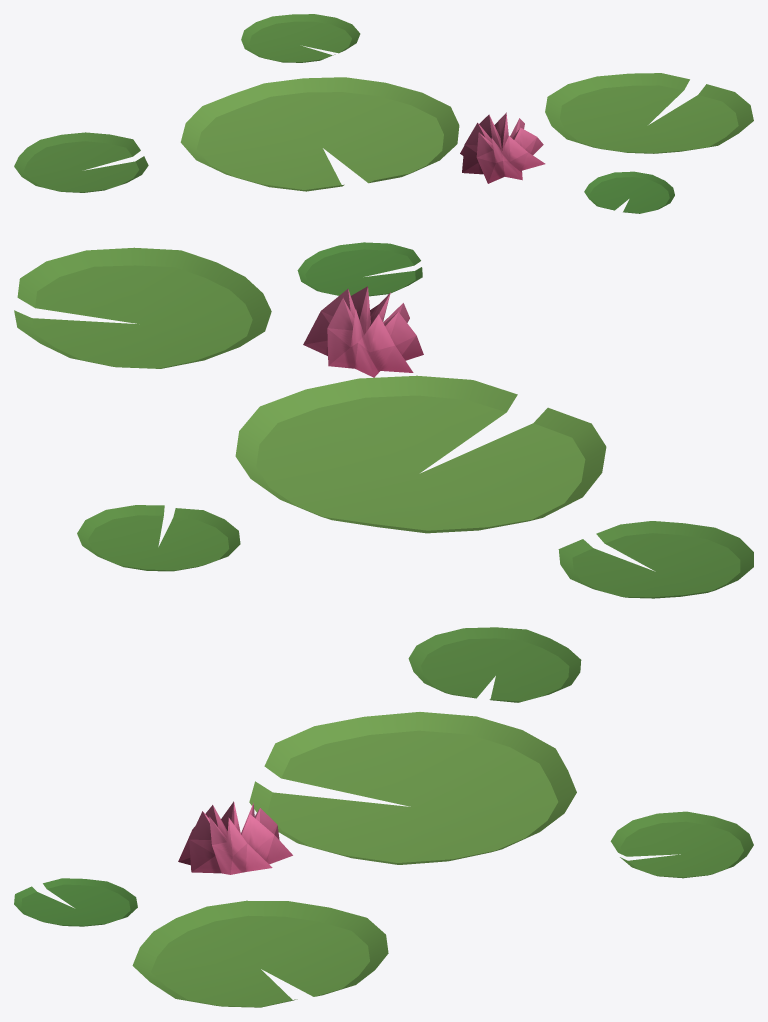
File: lily_pad_1_pink.glb
3 views of the same model, one above another, from view 1: azimuth 30°, elevation 25°; view 2: azimuth 150°, elevation 25°; view 3: azimuth 270°, elevation 25° (orthographic). The views are drawn at different scales.
Visible parts, largest first — view 1: lily_pad_1_pink; view 2: lily_pad_1_pink; view 3: lily_pad_1_pink.
Boxes of the visible parts, box(x1,y1,x2,y2) form: lily_pad_1_pink: box(14, 14, 753, 213); lily_pad_1_pink: box(14, 242, 753, 598); lily_pad_1_pink: box(14, 627, 753, 1007).
Bounding box in the file's own units: 1.1 × 0.09 × 0.9.
Materials: 2 (2 with a texture image).
